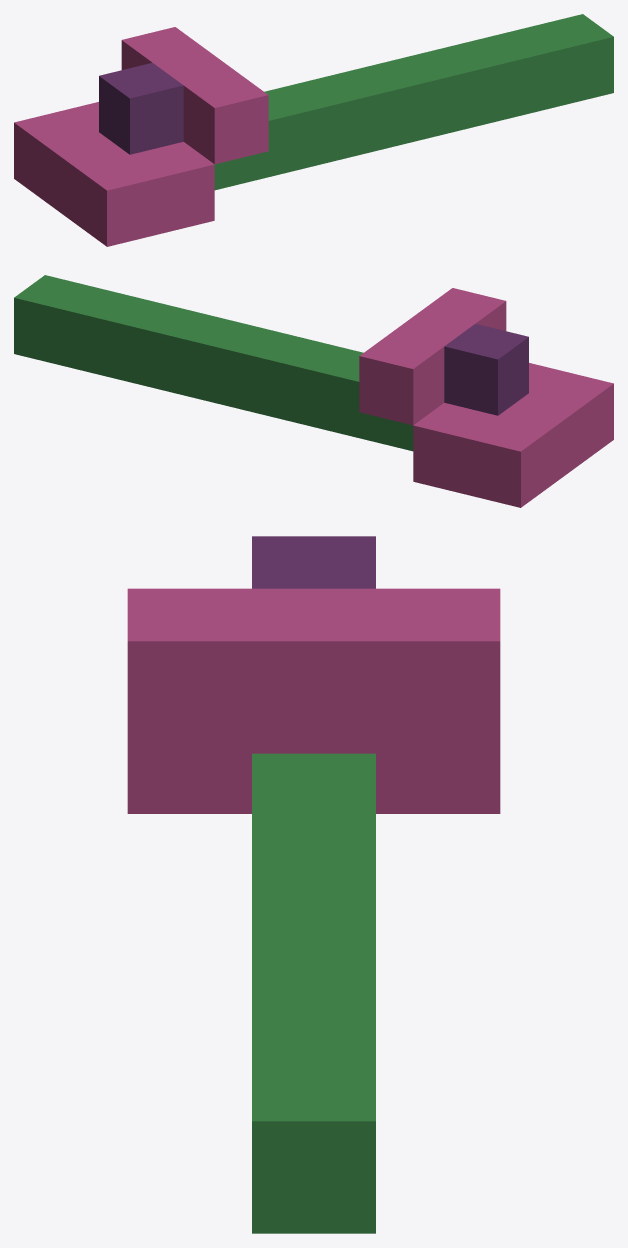
File: flower_flat.obj
3 views of the same model, one above another, from view 1: azimuth 30°, elevation 25°; view 2: azimuth 150°, elevation 25°; view 3: azimuth 270°, elevation 25° (orthographic). The views are drawn at different scales.
Size of the model in its own units: 1 by 0.2 by 0.3.
1 material, 1 textured.
